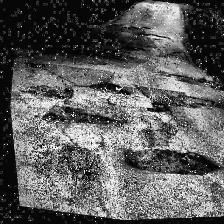pothole: (116, 139, 220, 185), (38, 100, 112, 134), (23, 79, 72, 104), (84, 77, 130, 99), (64, 43, 110, 65), (120, 43, 146, 59), (20, 59, 48, 71)
